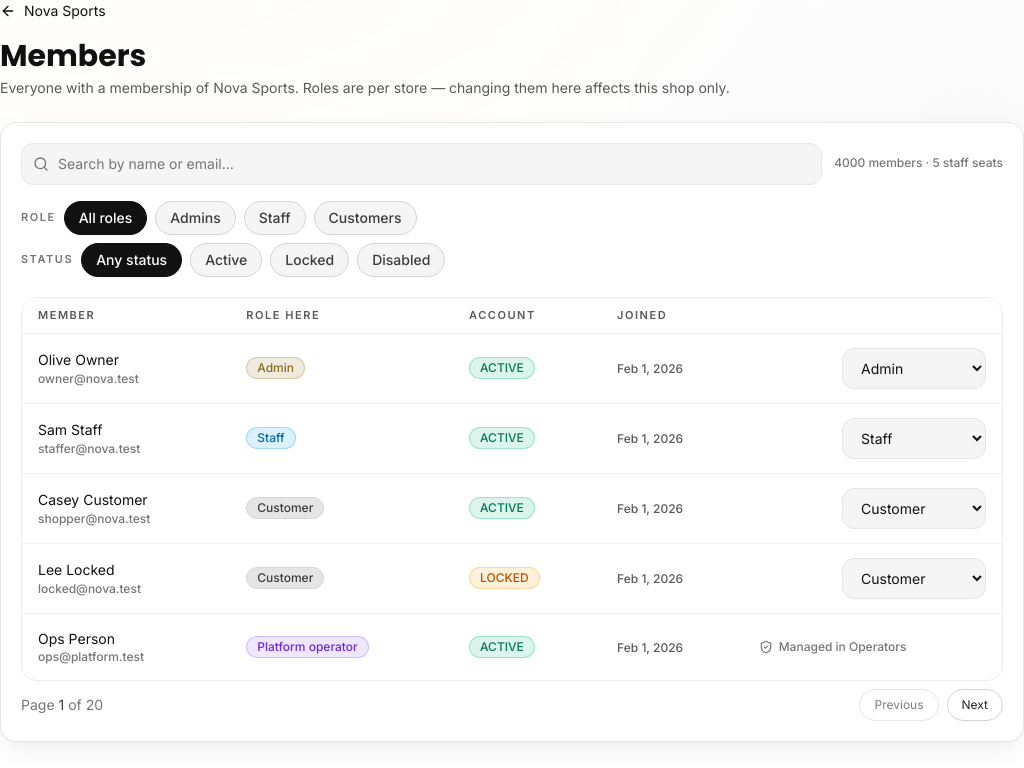
Scenario: Store members — filters › says so when a filter can only see part of the membership
The width and height of the screenshot is (1024, 768).
Check: the text "Olive Owner" is shown, box [38,351,119,368]
Click the button "Admins": (196, 218) [170,208,221,228]
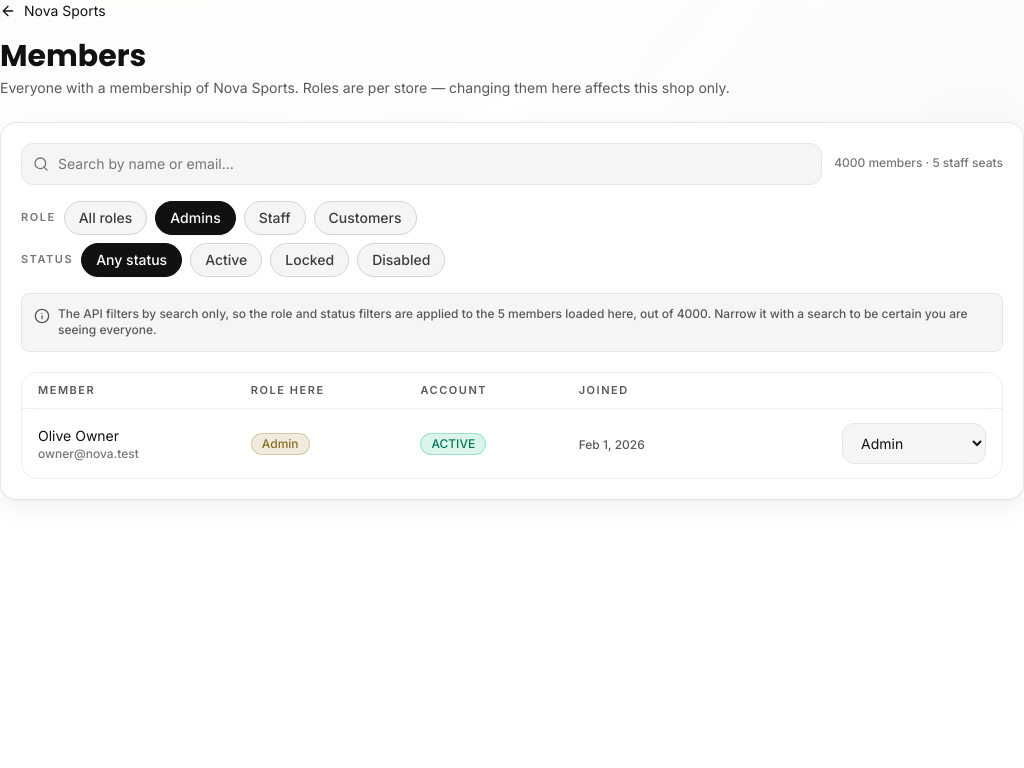
Check: the text "applied to the 5 members loaded here, out of 4000" is shown, box [21,293,1003,352]
